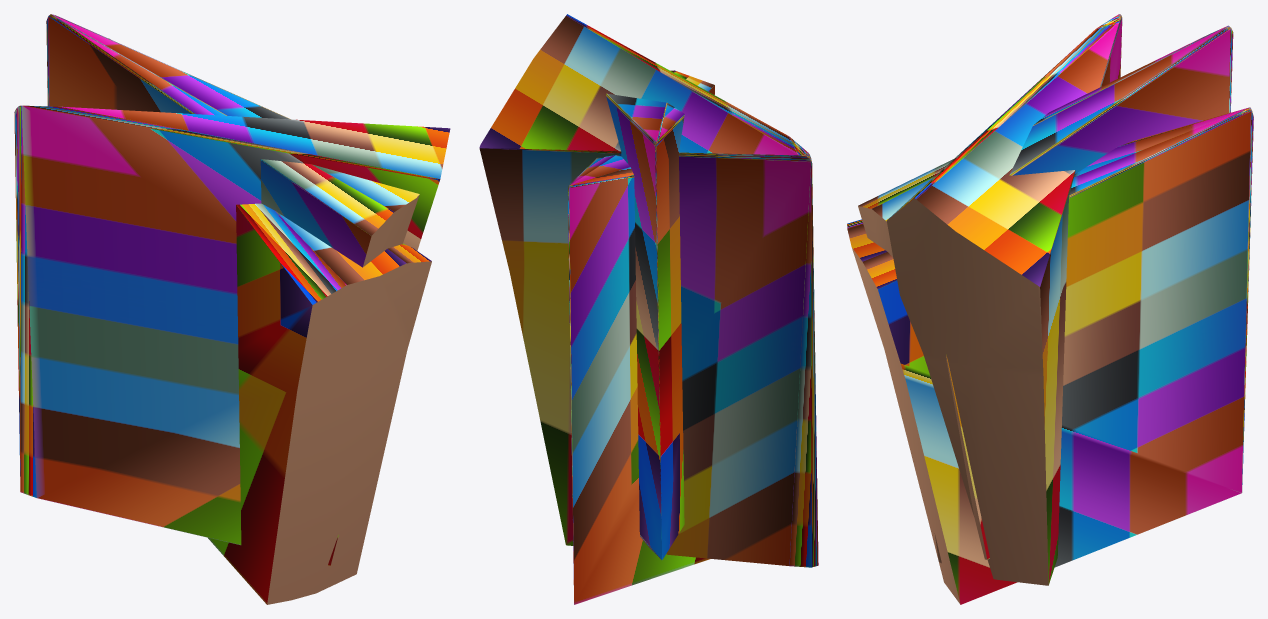
File: Ice (1).fbx
3 renders of one model, left to right at view 1: azimuth 30°, elevation 25°; view 2: azimuth 150°, elevation 25°; view 3: azimuth 270°, elevation 25°, orthographic. The views are drawn at different scales.
Parts seen in each view (by area): view 1: Ice _Scream.007_cell.097, Ice _Scream.007_cell.092, Ice _Scream.007_cell.008; view 2: Ice _Scream.007_cell.097, Ice _Scream.007_cell.092, Ice _Scream.007_cell.008; view 3: Ice _Scream.007_cell.092, Ice _Scream.007_cell.097, Ice _Scream.007_cell.008.
Boxes of the visible parts, x1,y1,x2,y2 form: Ice _Scream.007_cell.097: [14, 105, 450, 565]; Ice _Scream.007_cell.092: [109, 38, 431, 604]; Ice _Scream.007_cell.008: [46, 14, 419, 267]; Ice _Scream.007_cell.097: [479, 14, 818, 567]; Ice _Scream.007_cell.092: [567, 155, 710, 604]; Ice _Scream.007_cell.008: [606, 70, 714, 559]; Ice _Scream.007_cell.092: [847, 107, 1253, 604]; Ice _Scream.007_cell.097: [887, 14, 1122, 585]; Ice _Scream.007_cell.008: [858, 25, 1233, 559].
Size of the model in its own units: 172 by 238 by 176.
Materials: 1 (1 with a texture image).
